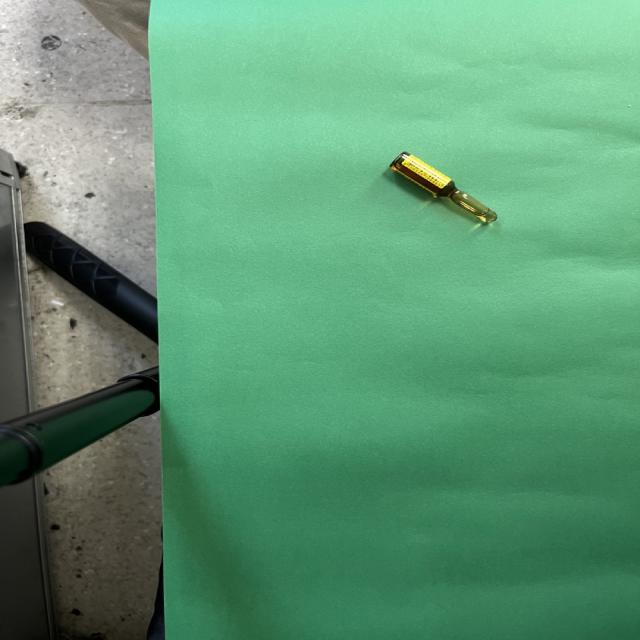Ampoules: (390, 152, 497, 223)
